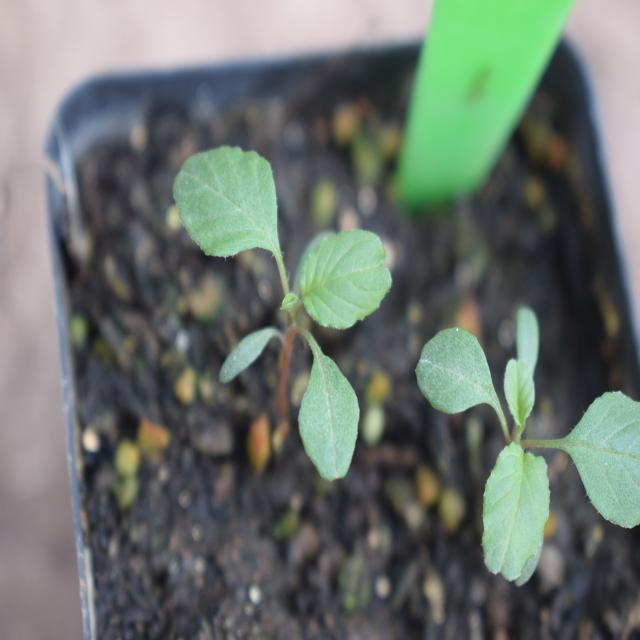pigweed: (178, 142, 412, 474), (417, 314, 637, 584)
